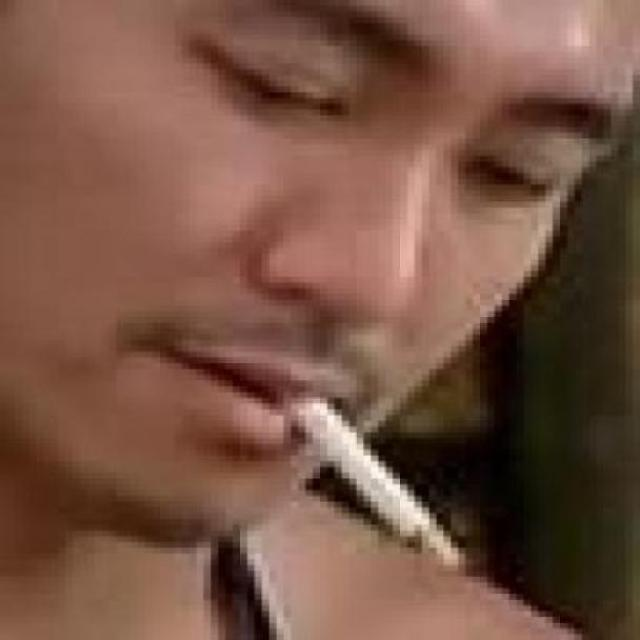rokok: (217, 342, 468, 580)
